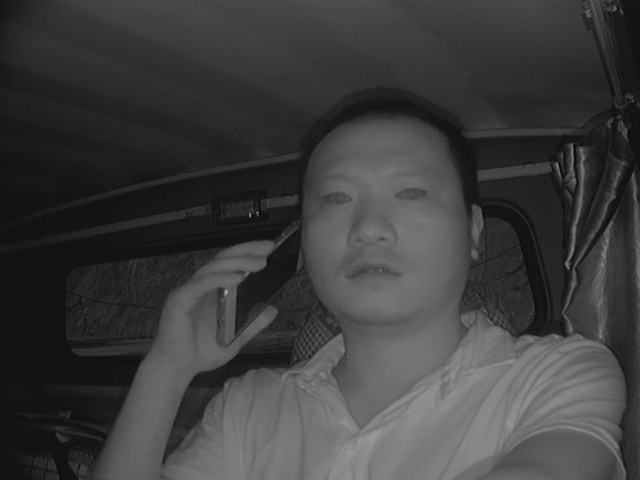hand: (165, 235, 274, 375)
